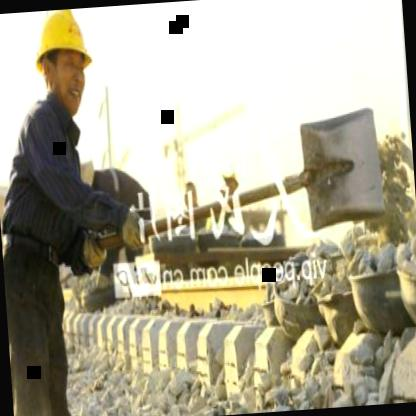helmet: (29, 7, 102, 124)
